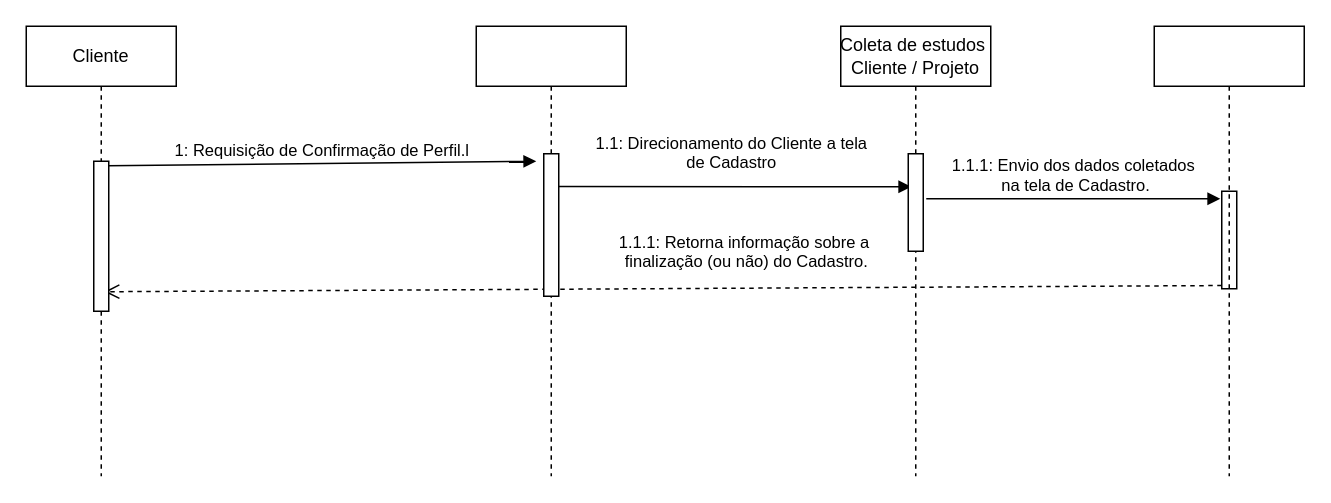
Some shapes in this 1331 by 503 pixel diagram are drawn without their labels. Here are the shapes that lost their labels. From the top down, the box of each, then its label:
(475, 25, 626, 476): Confirmação de Perfil
(1153, 25, 1304, 476): Análise/Conclusão do Cadastro
